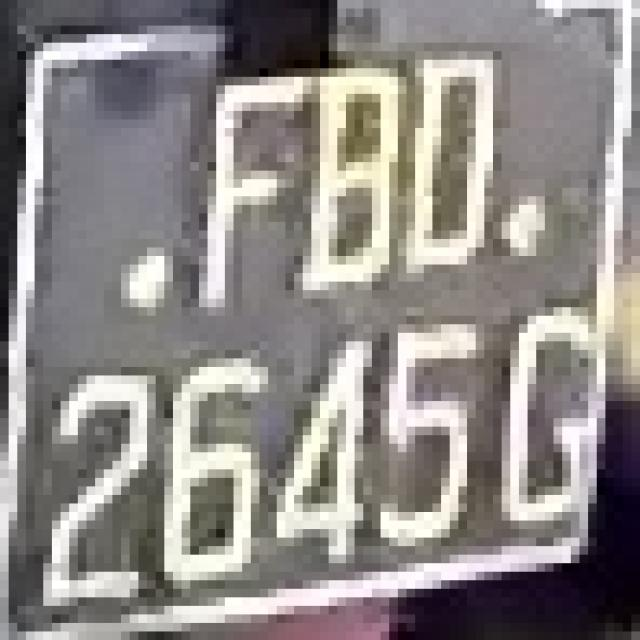2: (18, 358, 138, 623)
4: (268, 307, 372, 555)
5: (355, 290, 484, 546)
6: (147, 350, 277, 606)
B: (294, 43, 407, 307)
D: (398, 25, 510, 298)
F: (156, 43, 302, 307)
G: (476, 298, 614, 538)
